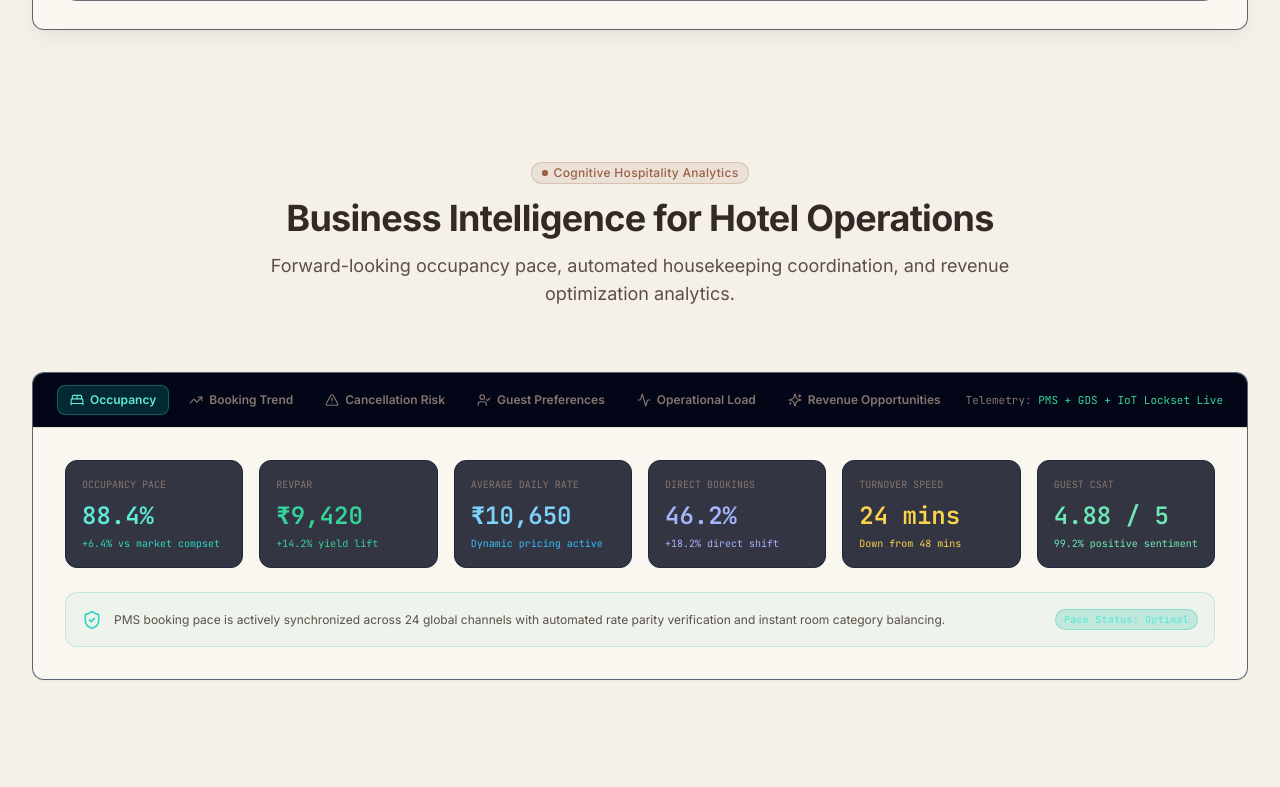
Test case: HotelExperience › allows switching tabs in HotelBiDashboard
(page scrolled)
// Cancellation Risk tab
Click the button "Cancellation Risk".
click(385, 400)  # box [313,386,457,414]
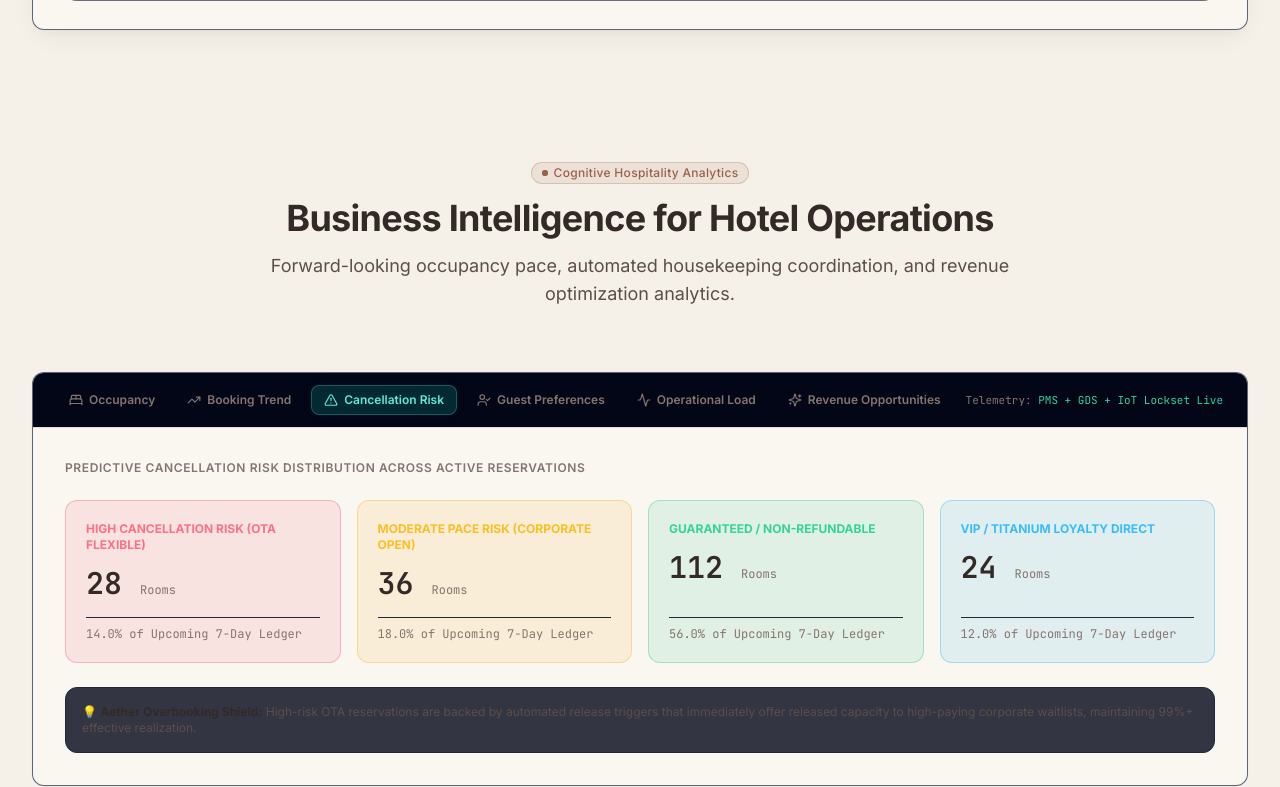
expect the text "Predictive Cancellation Risk Distribution" is shown: met, box [65,460,585,475]
// Revenue Opportunities tab
Click the button "Revenue Opportunities".
click(864, 400)  # box [776,386,953,414]
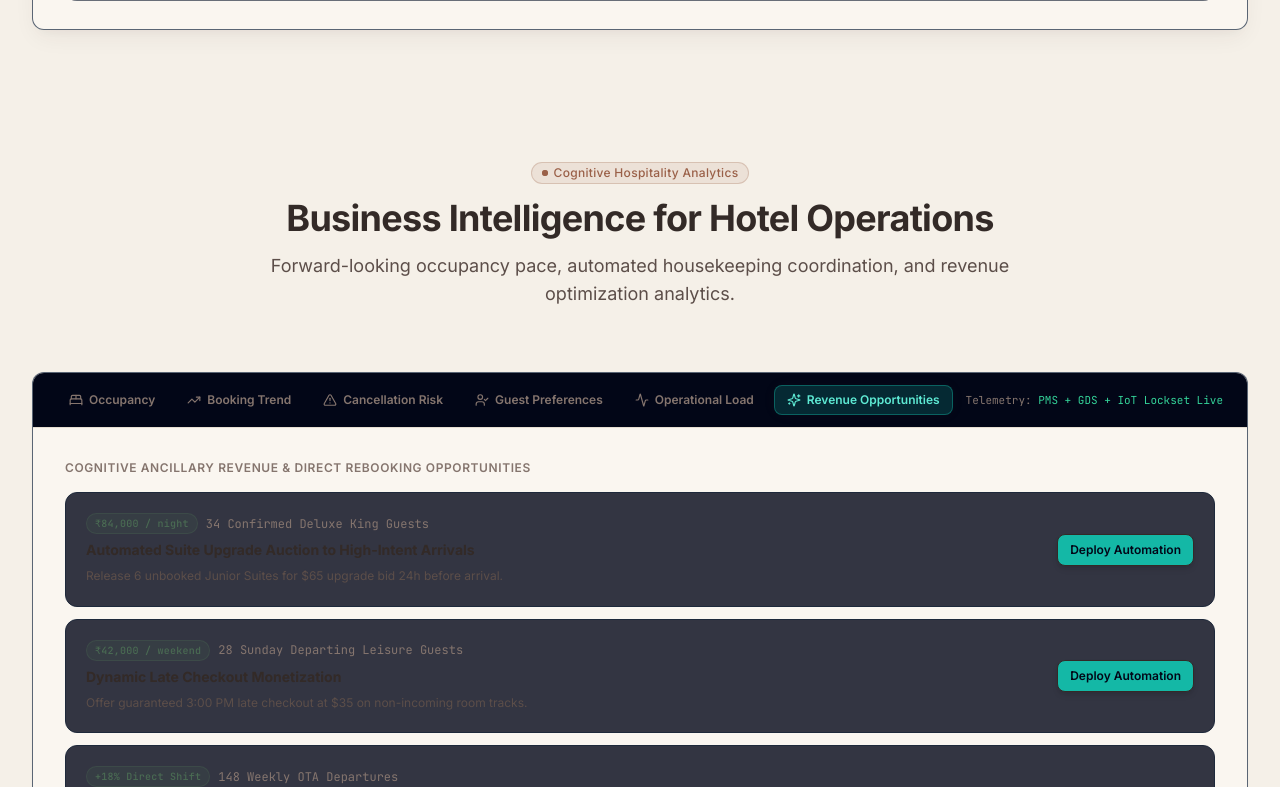
expect the text "Cognitive Ancillary Revenue & Direct Rebooking Opportunities" is shown: met, box [65,460,531,475]
